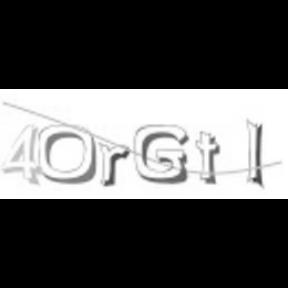4: (2, 121, 42, 185)
G: (131, 122, 189, 186)
I: (245, 115, 266, 187)
O: (39, 124, 97, 184)
r: (96, 141, 130, 187)
t: (194, 130, 220, 186)
